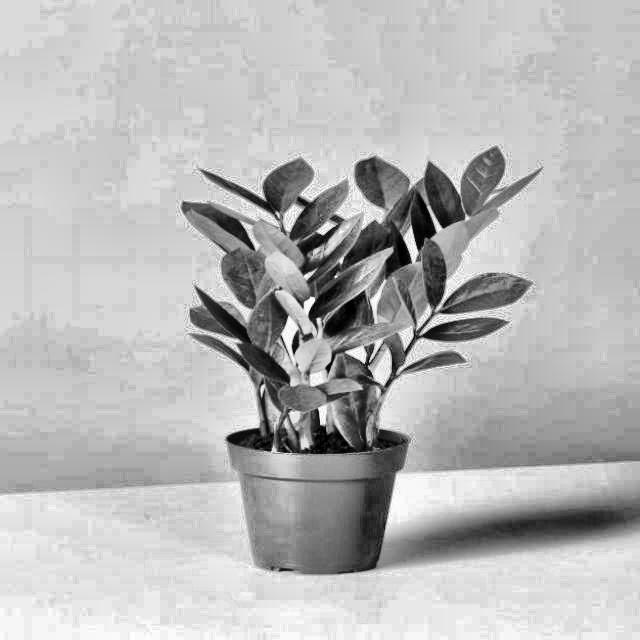plants: (150, 137, 486, 447)
